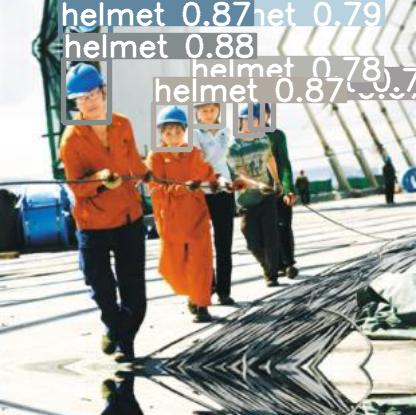helmet: (63, 58, 109, 122), (60, 0, 110, 36), (153, 102, 190, 149), (190, 81, 223, 126), (235, 99, 262, 135), (250, 92, 273, 129), (191, 0, 224, 14)
